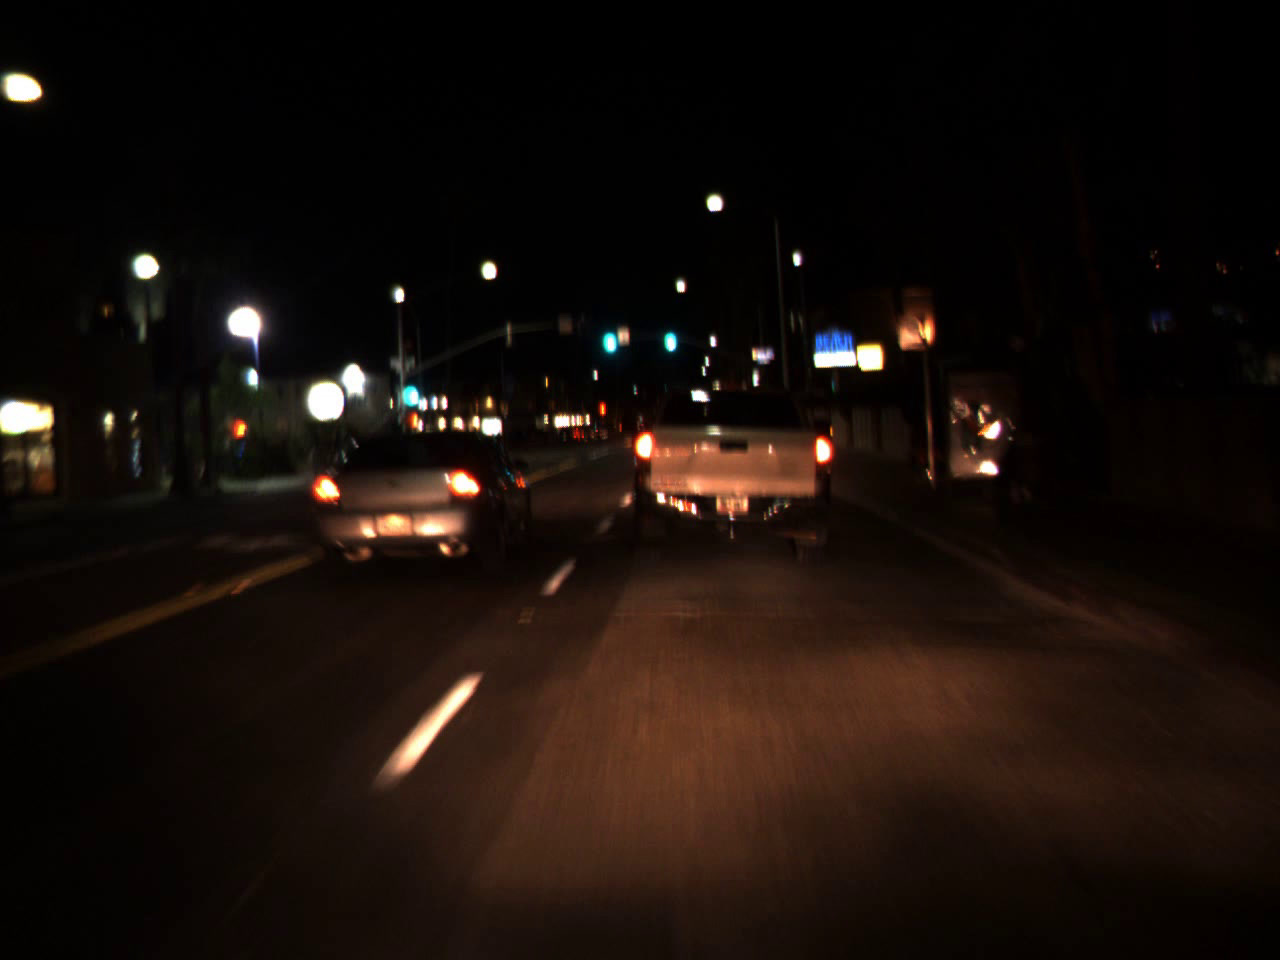go: (396, 358, 419, 415), (598, 307, 619, 361), (661, 311, 679, 356)
